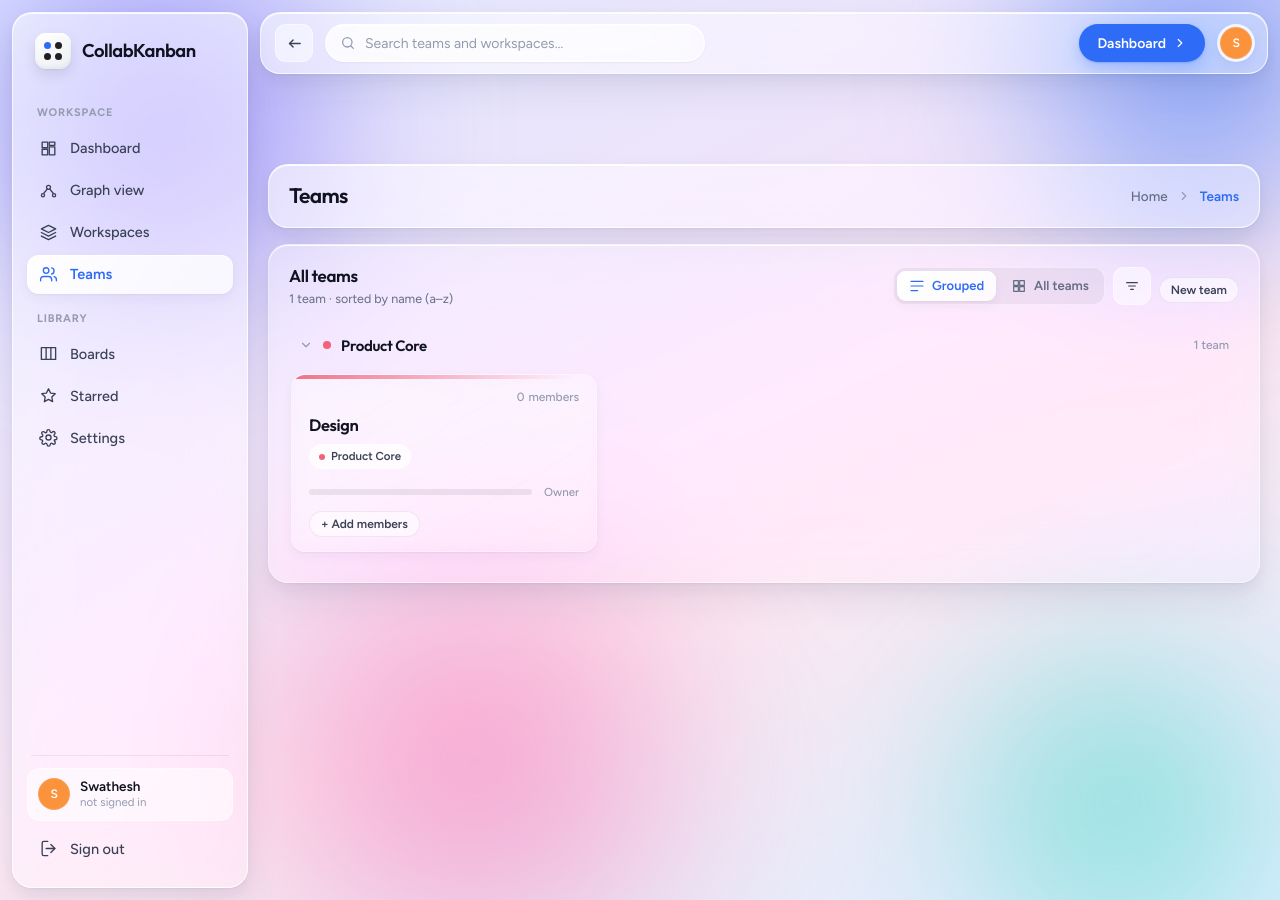
Test: TeamsPage › adding members › adds the picked people, reloads the teams and confirms
Click the button with aria-label "Add members to Design" at (364, 524), box [309, 511, 420, 537]
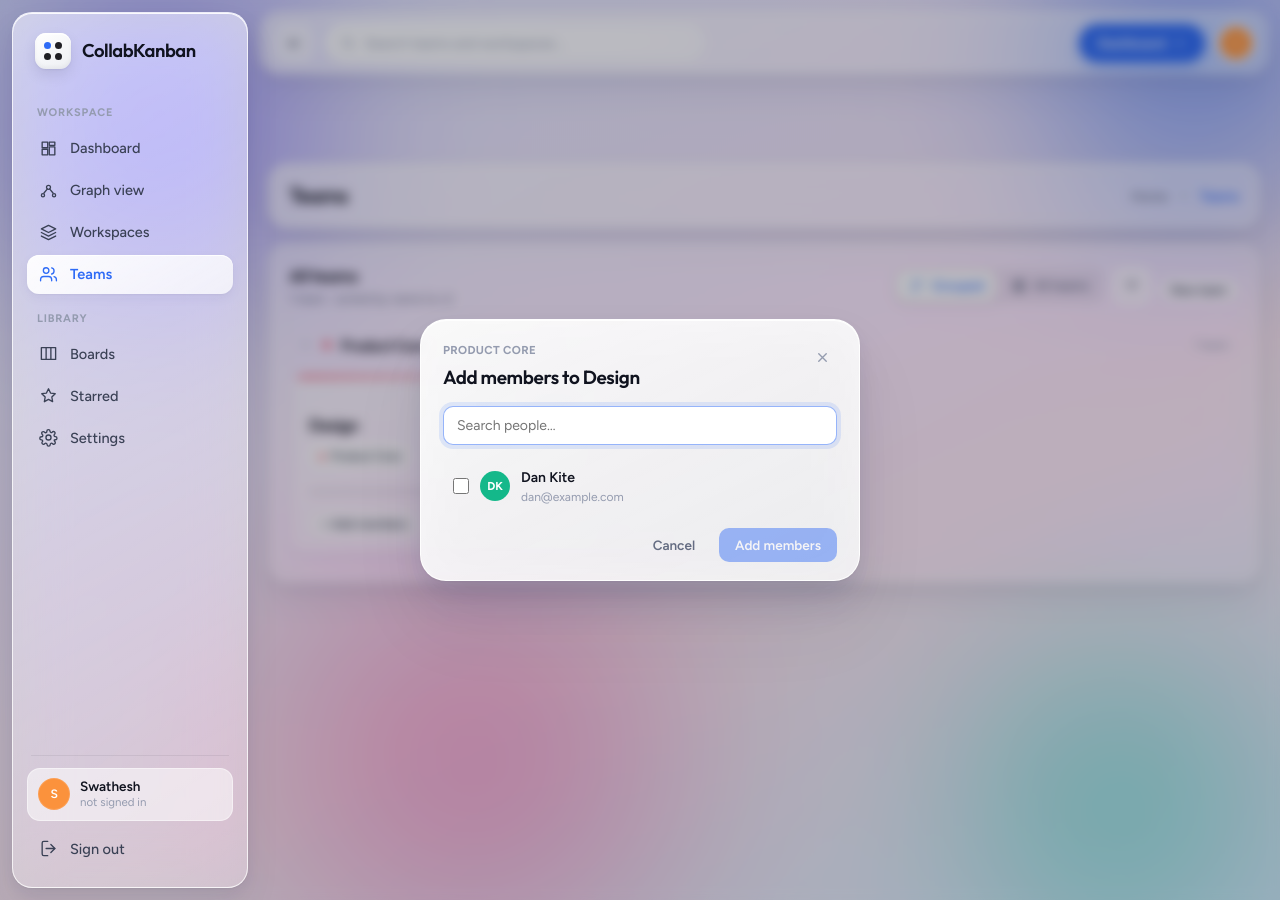
Click the checkbox labelled "DK Dan Kite dan@example.com" at (461, 486), box [453, 478, 469, 494]
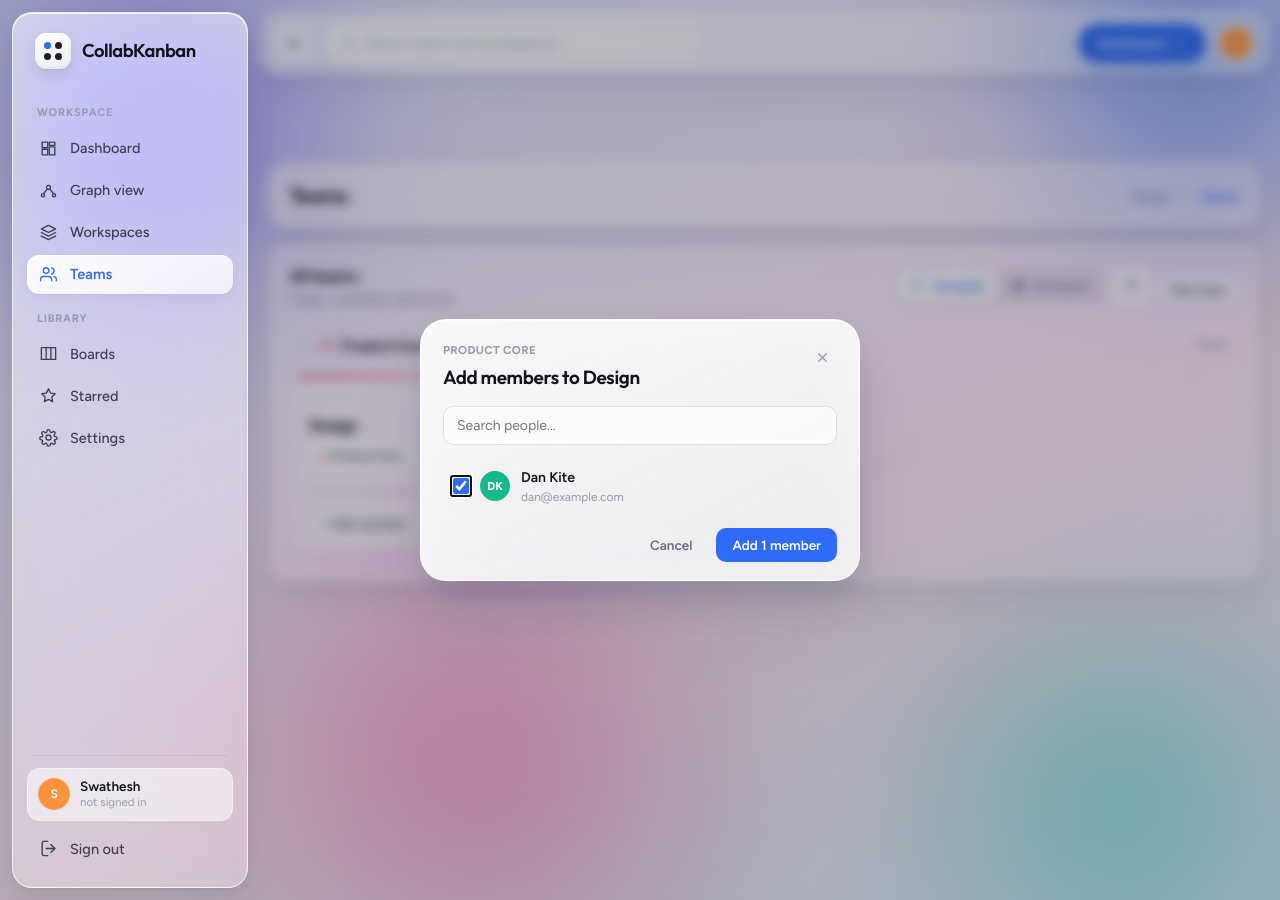
Click the button "Add 1 member" at (777, 545), box [716, 528, 837, 562]
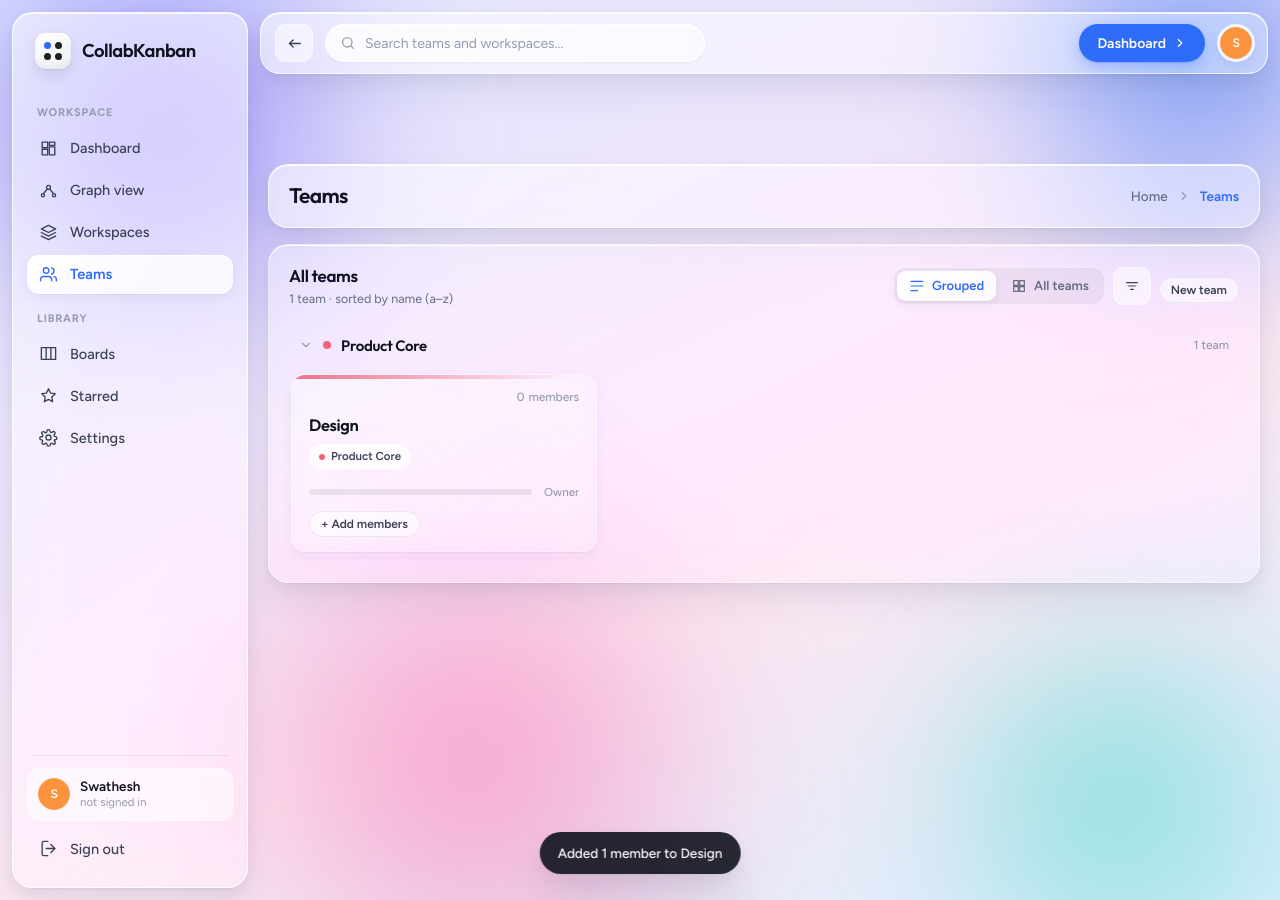
Expected: the text "Added 1 member to Design" is shown, [540, 832, 740, 874]
Expected: the dialog is gone
